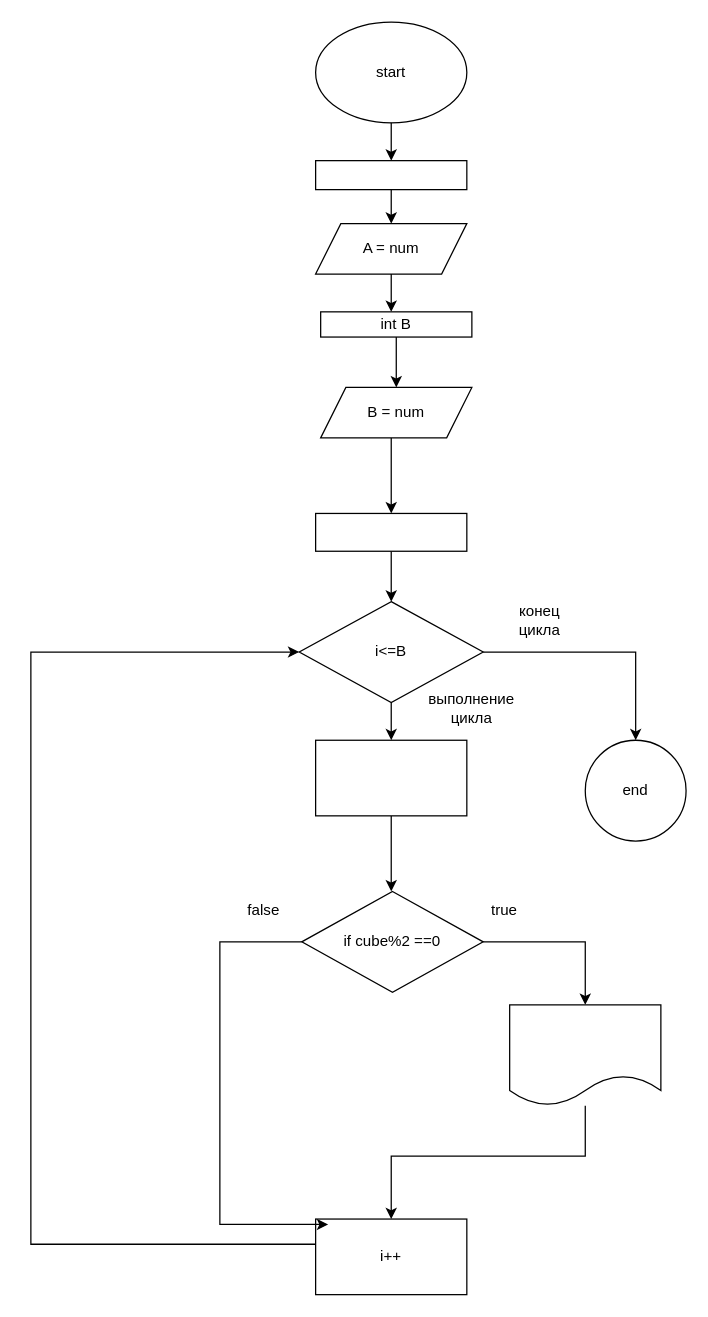
Some shapes in this 708 by 1317 pixel diagram are drawn without their labels. The shapes that lost their labels are listed below. From the top down, each one's centre as x and y in pixels, then its label:
[390,174]: int A
[390,531]: i = A
[390,777]: int cube= i * i * i
[584,1055]: print cube
